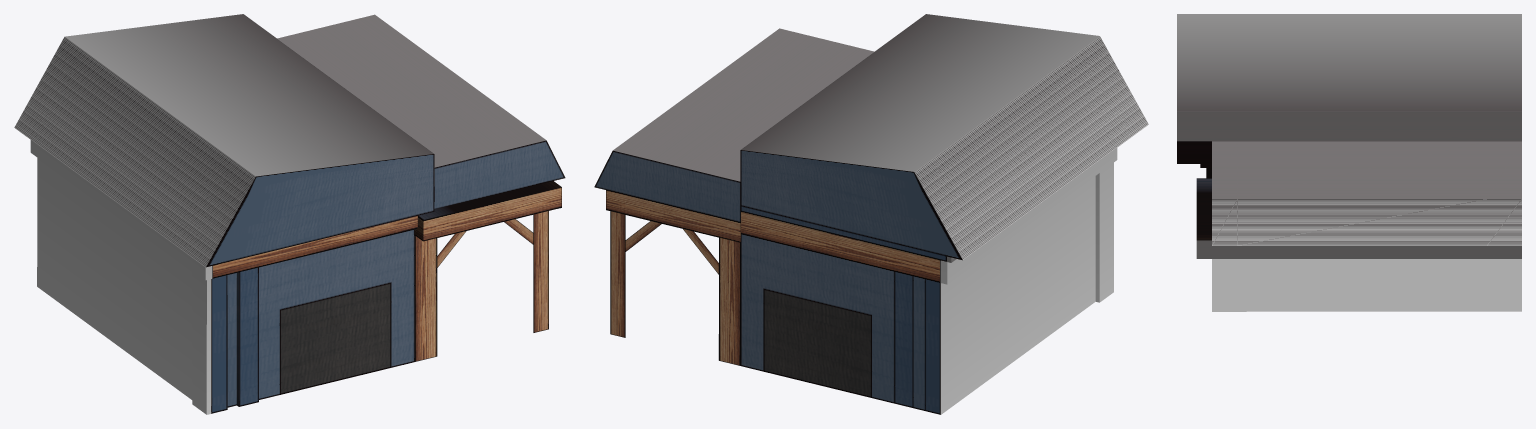
Rendered from House_4_B.fbx.
3 renders of one model, left to right at view 1: azimuth 30°, elevation 25°; view 2: azimuth 150°, elevation 25°; view 3: azimuth 270°, elevation 25°, orthographic. The views are drawn at different scales.
Parts seen in each view (by area): view 1: House-4; view 2: House-4; view 3: House-4.
Part boxes in pixels (left/top/right/bottom): House-4: left=14, top=14, right=565, bottom=414; House-4: left=594, top=14, right=1148, bottom=414; House-4: left=1177, top=14, right=1521, bottom=311.
Size of the model in its own units: 293 by 221 by 255.
